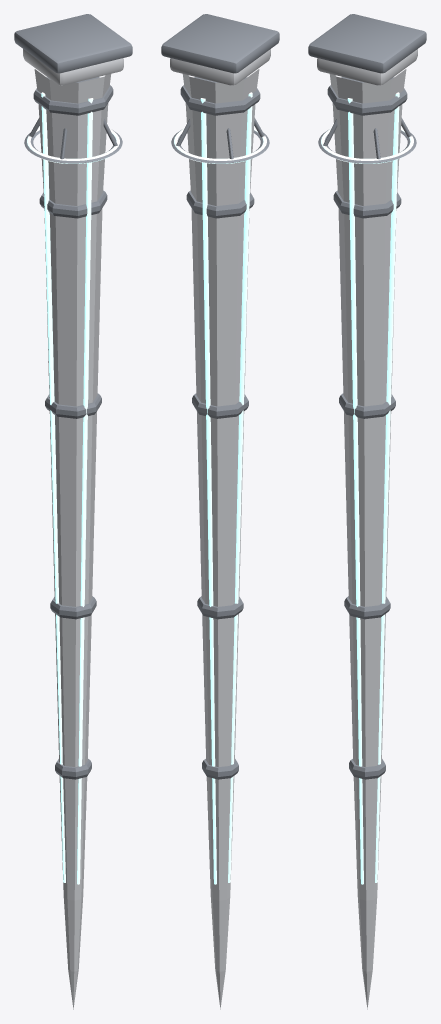
File: pylon.glb
3 renders of one model, left to right at view 1: azimuth 30°, elevation 25°; view 2: azimuth 150°, elevation 25°; view 3: azimuth 330°, elevation 25°, orthographic.
Visible parts, largest first — view 1: pylon; view 2: pylon; view 3: pylon.
Boxes of the visible parts, x1,y1,x2,y2 form: pylon: (14, 14, 132, 1009); pylon: (161, 14, 279, 1009); pylon: (308, 14, 426, 1009).
Bounding box in the file's own units: 1.1 × 12 × 1.1.
